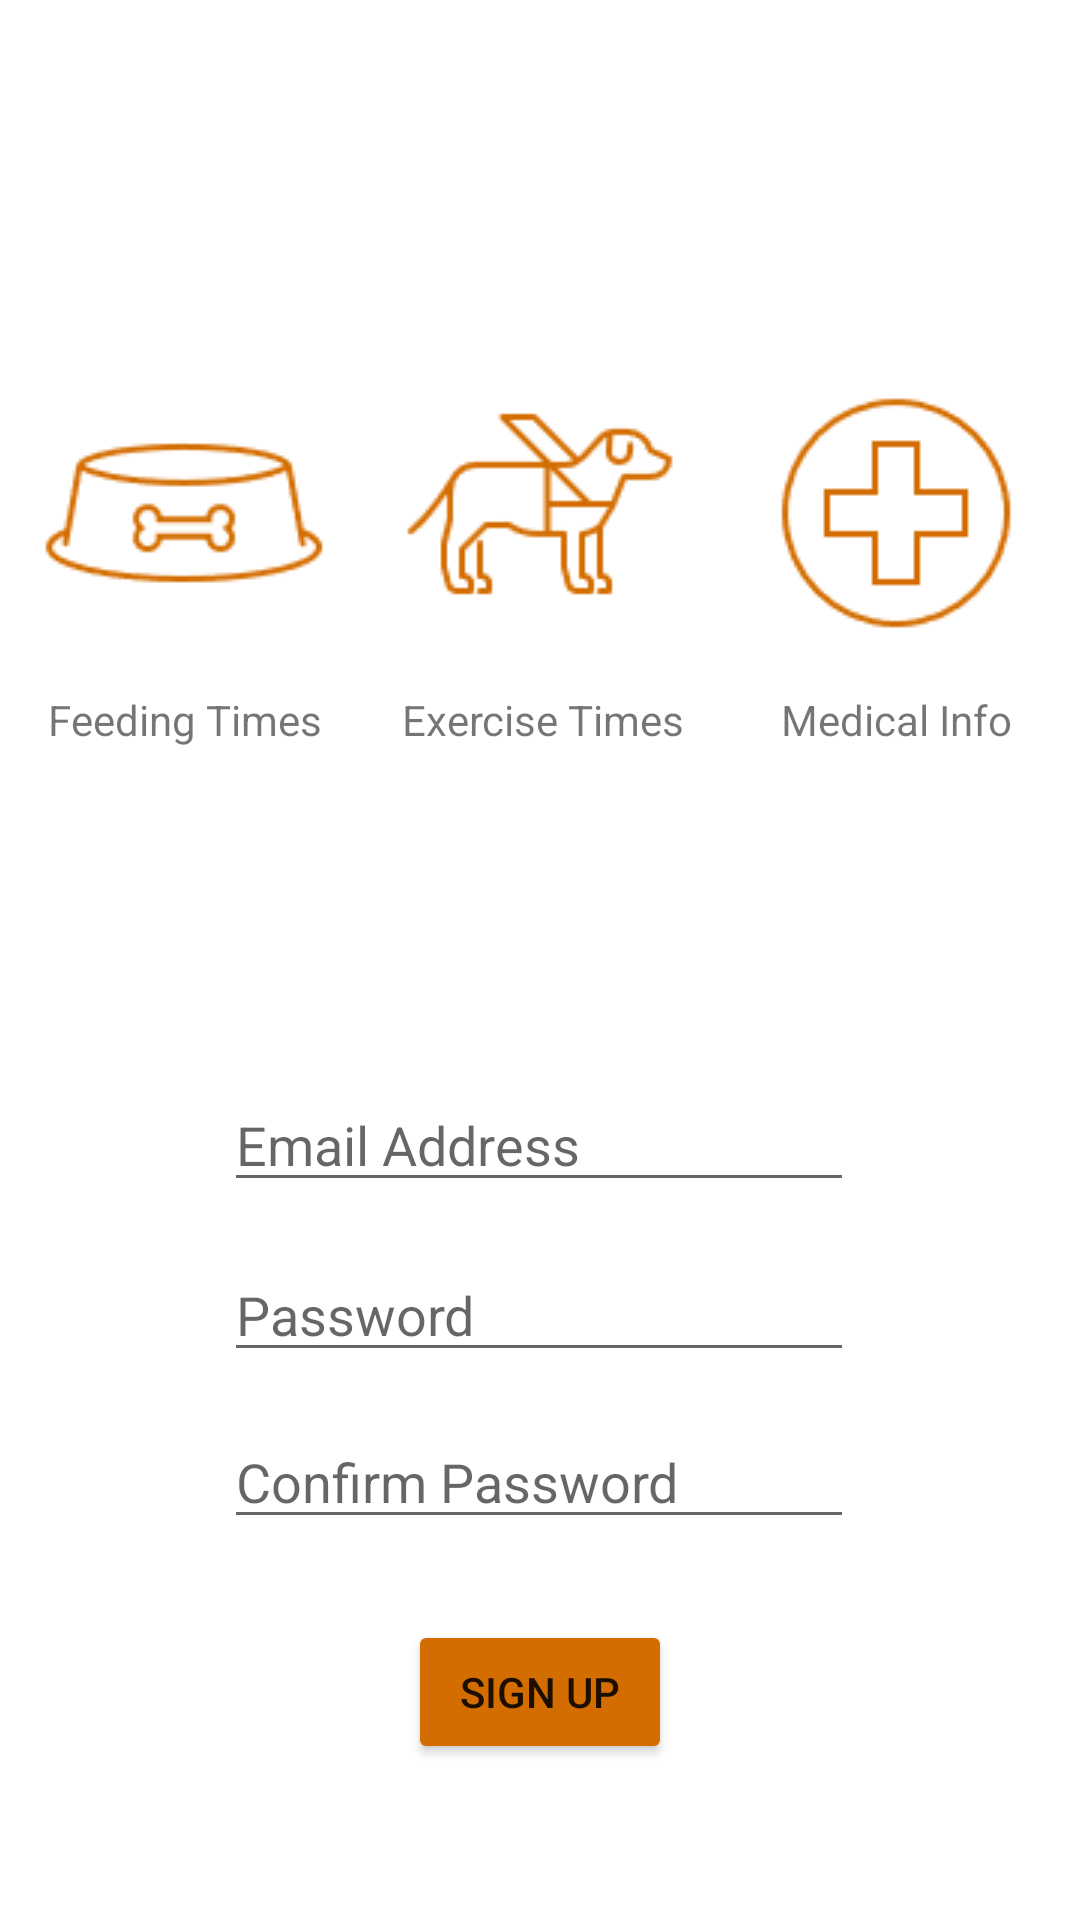

Where icons sit on this 1080 x 1920 app screen, as region(x1, y1, x2, y2):
food: region(45, 443, 323, 583)
